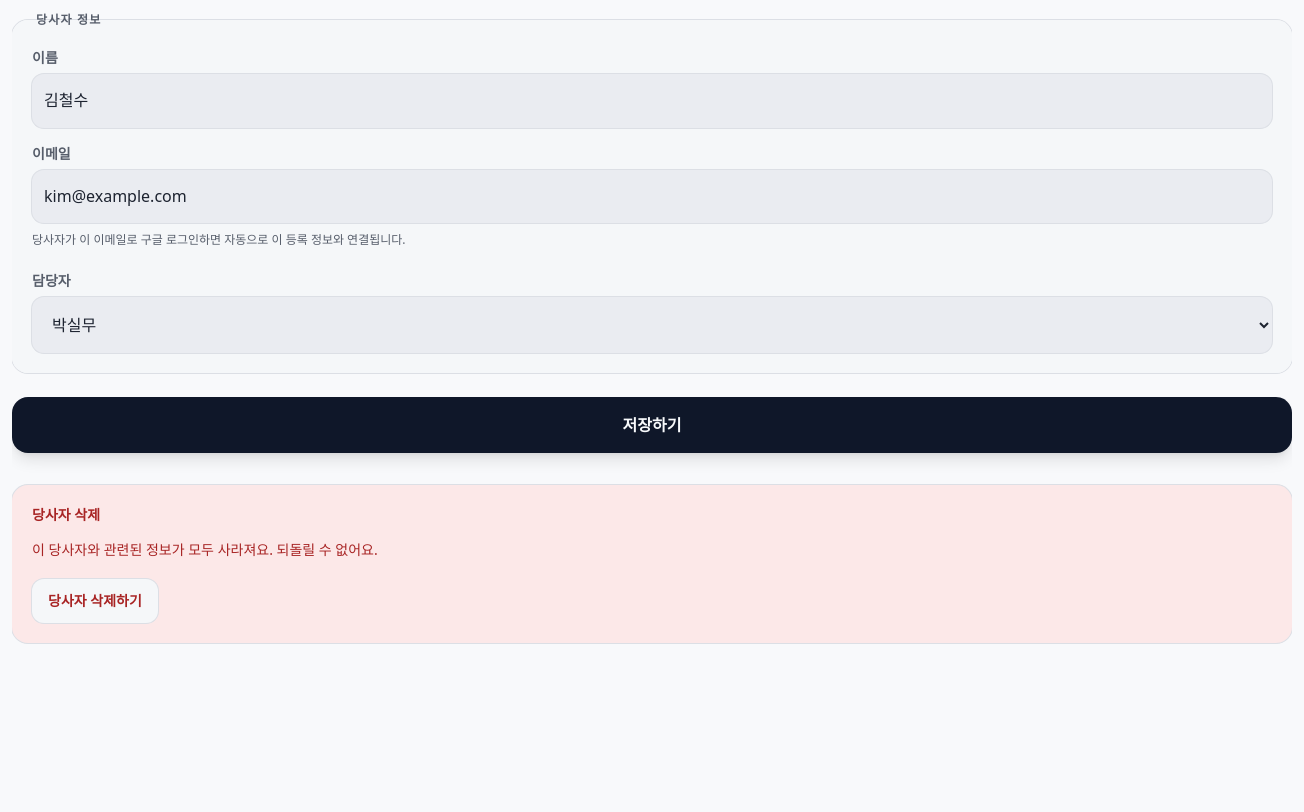
Scenario: ParticipantEditClient — 당사자 수정·삭제 › 삭제는 확인 단계를 거친다 — 바로 삭제 안 됨
Click the button "당사자 삭제하기". click: click(95, 601)
box: [32,579,158,623]
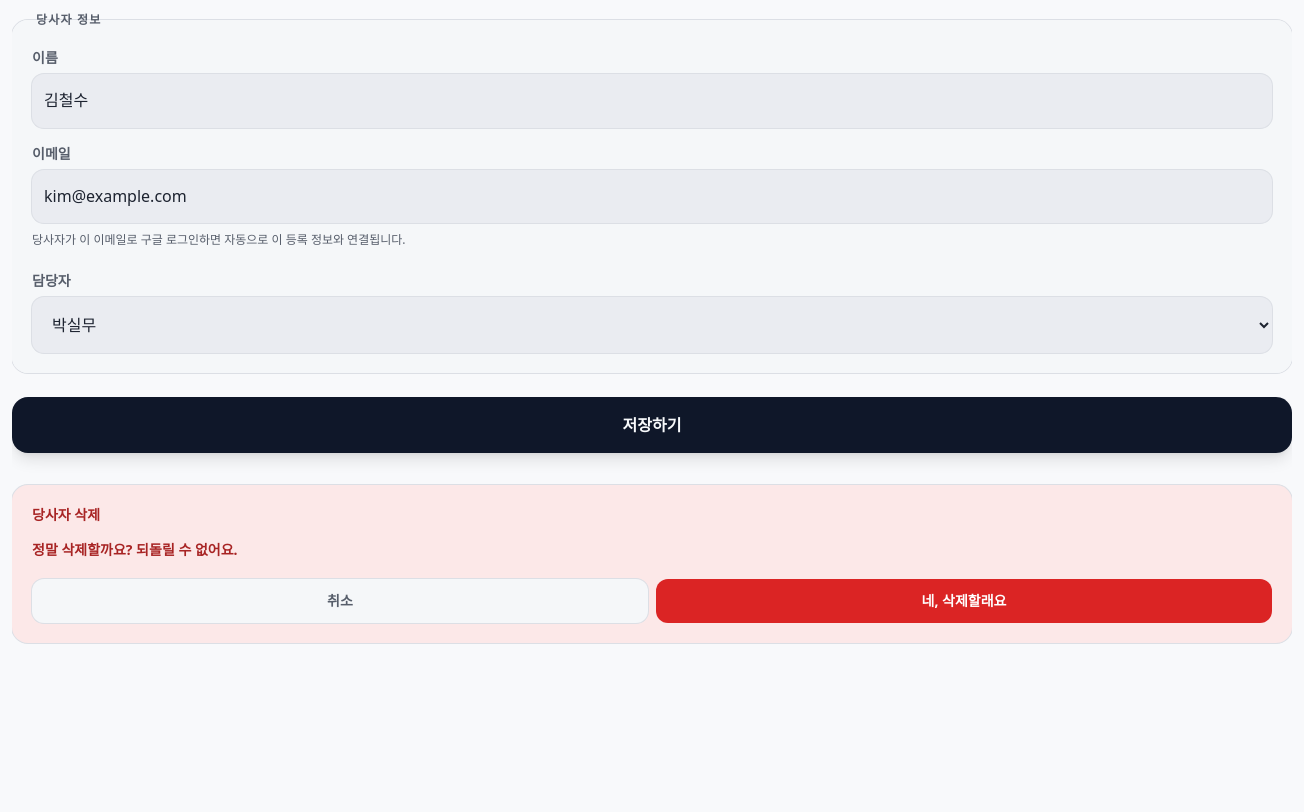
Check: the text "정말 삭제할까요? 되돌릴 수 없어요." is shown, box [32,540,238,559]
